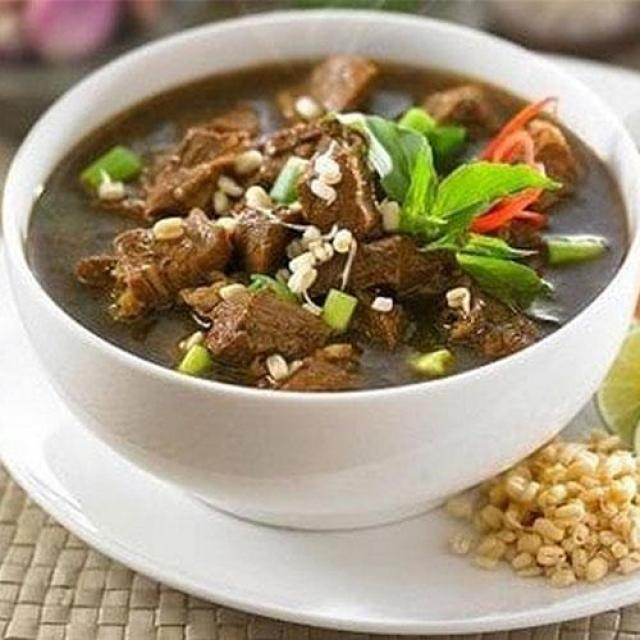Rawon: (6, 52, 615, 388)
